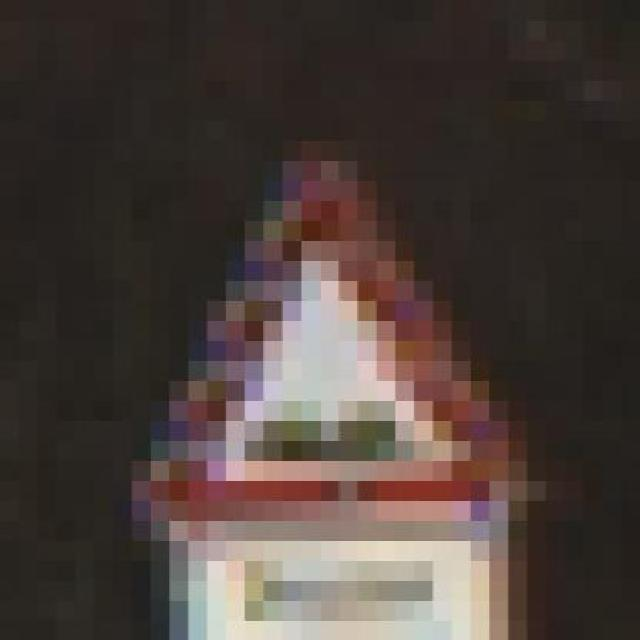Uneven Road: (131, 100, 527, 540)
